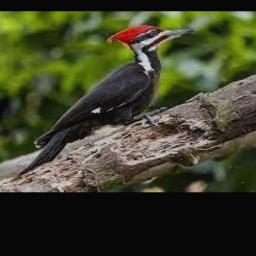Woodpecker: (15, 24, 196, 178)
